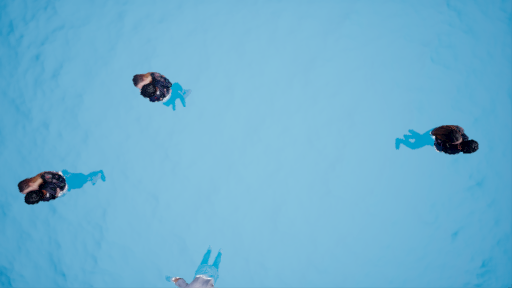person: (397, 120, 477, 164), (15, 169, 107, 205), (157, 243, 224, 288), (130, 70, 196, 112)
